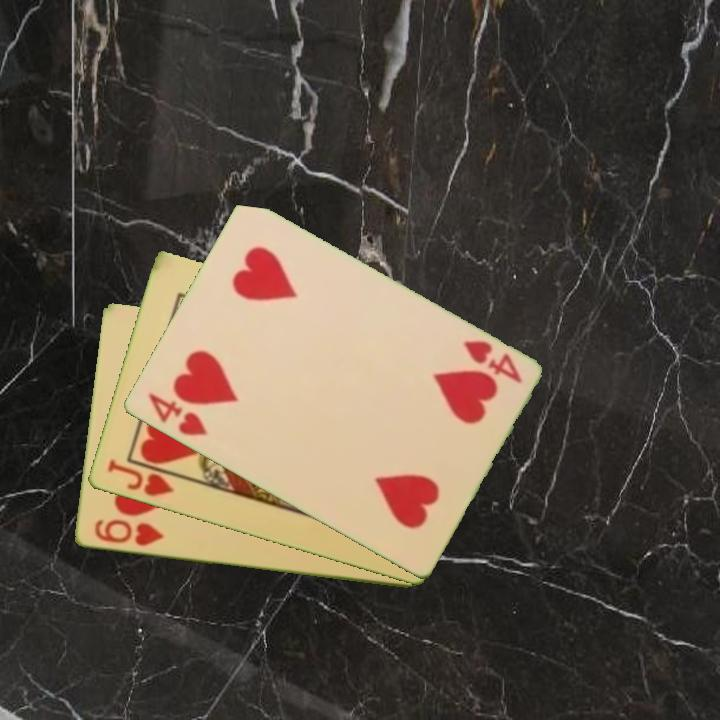4h: (143, 389, 210, 440), (459, 337, 525, 387)
6h: (90, 516, 166, 550)
Jh: (103, 455, 186, 500)
